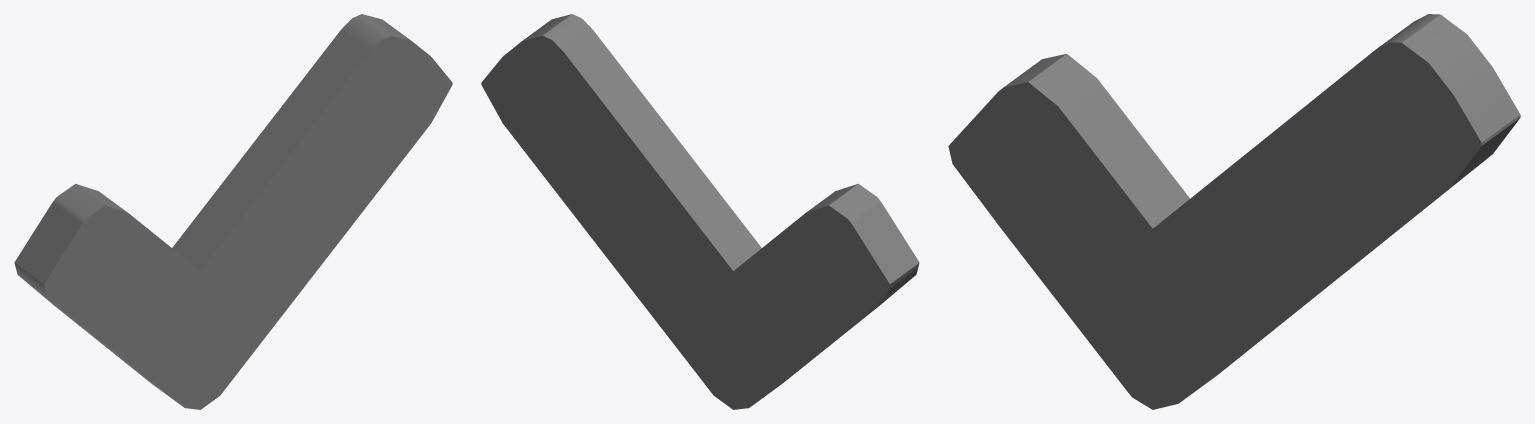
Rendered from fa-check.obj.
3 views of the same model, side by side, from view 1: azimuth 30°, elevation 25°; view 2: azimuth 150°, elevation 25°; view 3: azimuth 330°, elevation 25° (orthographic). The views are drawn at different scales.
Size of the model in its own units: 0.9153 by 0.7015 by 0.1152.
1 material, 1 textured.
